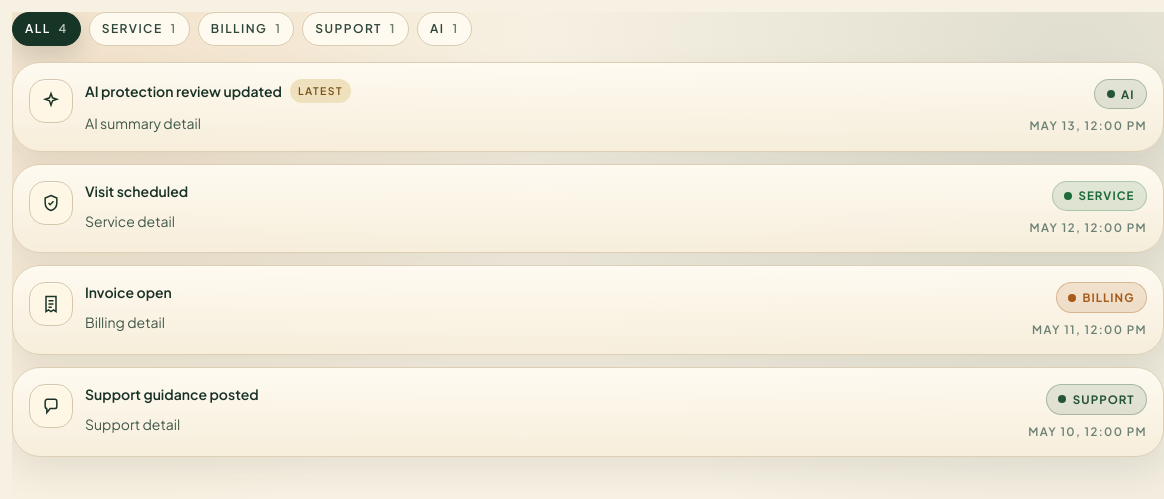
account-home-timeline interactions › switches visible timeline cards when filter tabs are clicked
Expected: the text "Visit scheduled" is shown, [85, 181, 188, 201]
Expected: the text "Invoice open" is shown, [85, 282, 172, 302]
Click the tab "Billing1".
click(246, 29)  # box [198, 12, 294, 46]
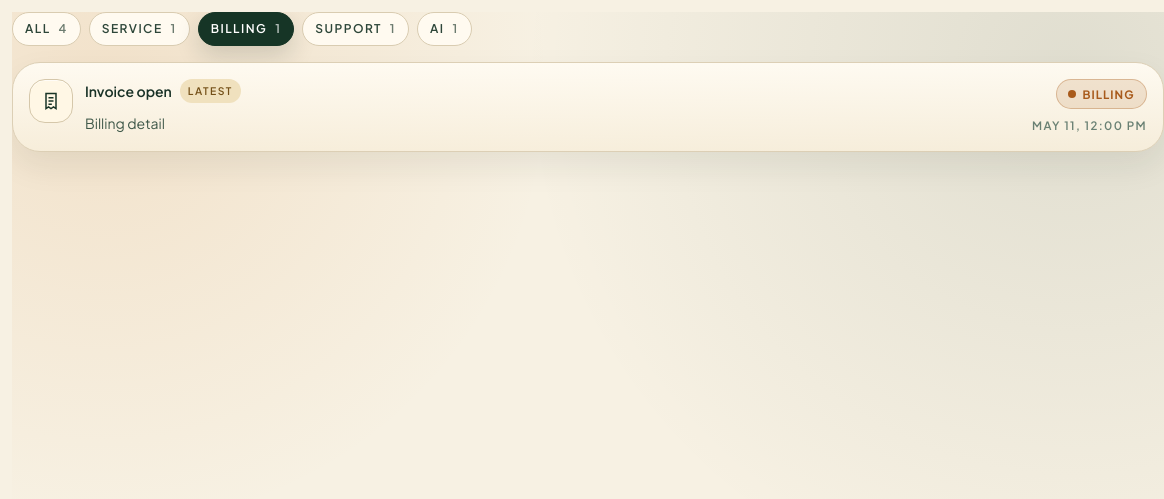
Expected: the text "Invoice open" is shown, [85, 81, 172, 101]
Now the text "Visit scheduled" is gone
Now the text "Support guidance posted" is gone
Click the tab "Support1".
click(356, 29)  # box [302, 12, 409, 46]
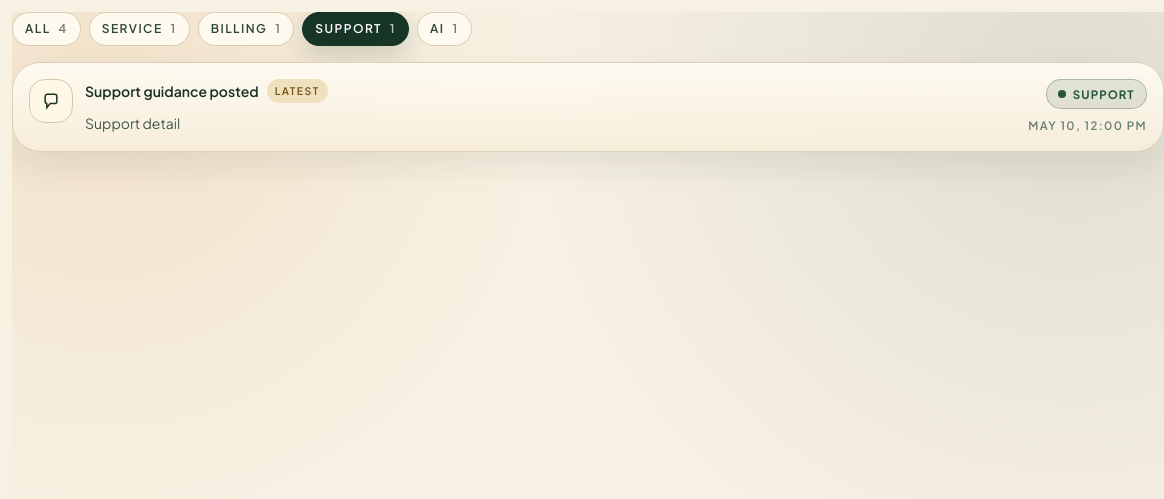
Now the text "Support guidance posted" is shown, box [85, 81, 259, 101]
Now the text "Invoice open" is gone
